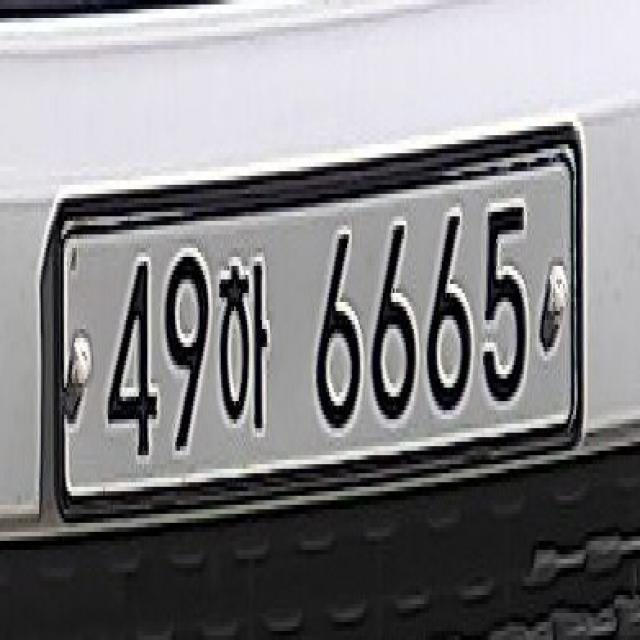4: (106, 249, 162, 465)
5: (480, 195, 534, 414)
6: (424, 196, 478, 430), (314, 217, 364, 443), (370, 210, 418, 436)
9: (163, 238, 213, 465)
ha: (217, 238, 276, 449)
license_plate: (49, 111, 591, 526)
